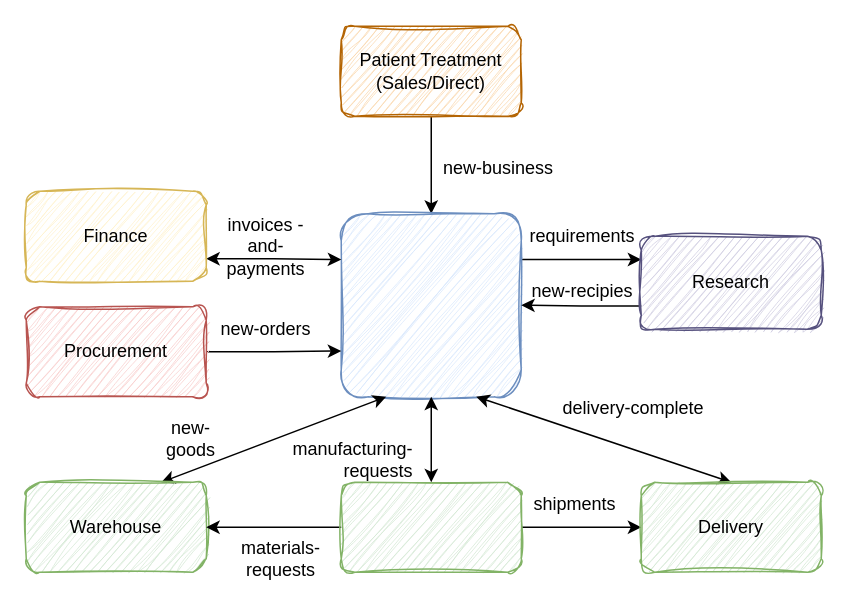
Some shapes in this 848 by 608 pixel diagram are drawn without their labels. Here are the shapes that lost their labels. From the top down, the box of each, then its label:
(340, 212, 521, 397): Data Hub
(340, 481, 521, 572): Manufacturing
